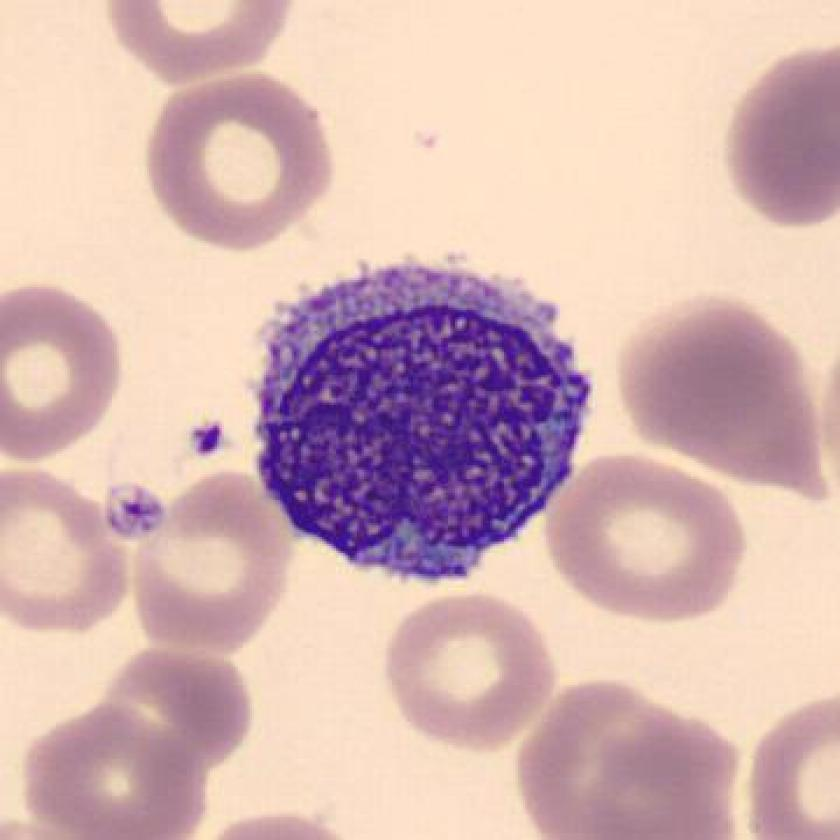monocyte: (230, 233, 608, 610)
